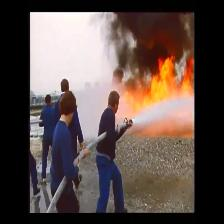fire: (130, 72, 190, 105)
smoke: (123, 12, 190, 58)
